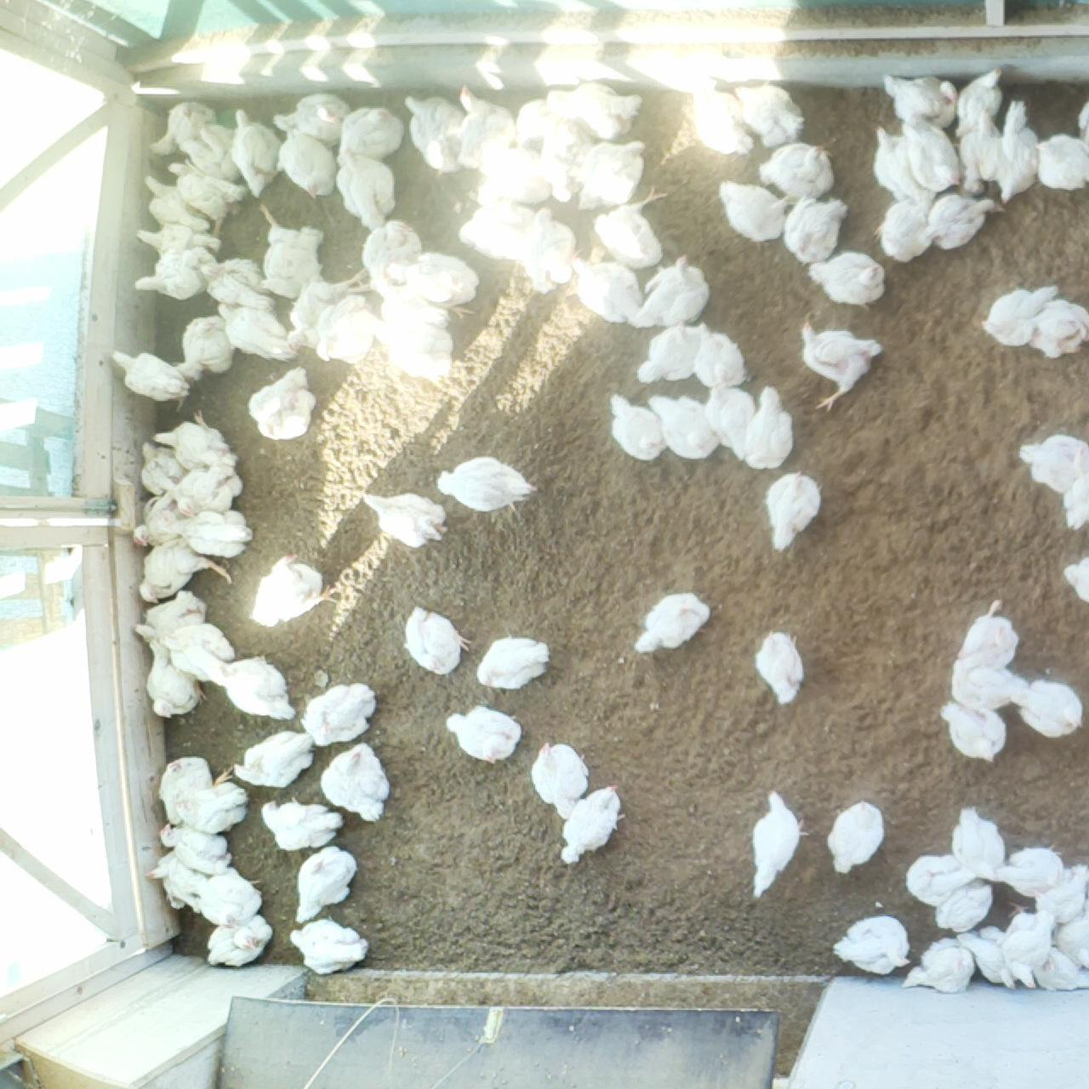chicken: (801, 317, 877, 413), (587, 184, 669, 271), (316, 746, 396, 821), (259, 205, 320, 302), (437, 455, 539, 513), (284, 277, 363, 351), (251, 556, 329, 630), (169, 159, 244, 234), (377, 304, 453, 378), (363, 487, 453, 549), (753, 787, 802, 900), (334, 150, 396, 238), (391, 250, 476, 313), (141, 545, 231, 603), (636, 590, 710, 659), (560, 784, 623, 864), (812, 250, 893, 312), (229, 109, 286, 197), (402, 93, 465, 172), (577, 257, 649, 326), (759, 140, 840, 200), (641, 395, 718, 458), (361, 224, 429, 295), (248, 367, 315, 439), (221, 295, 293, 362), (984, 282, 1057, 348), (640, 255, 706, 328), (718, 180, 794, 243), (113, 348, 191, 409), (149, 416, 235, 471), (445, 705, 522, 766), (634, 324, 711, 385), (955, 600, 1021, 670), (238, 727, 314, 787), (214, 660, 294, 717), (404, 606, 471, 674), (177, 769, 247, 834), (288, 921, 372, 975), (305, 681, 377, 744), (764, 472, 822, 550), (129, 252, 225, 299), (824, 799, 884, 874), (533, 738, 588, 819), (900, 120, 960, 194), (298, 847, 357, 922), (738, 84, 805, 150), (170, 510, 258, 560), (522, 210, 575, 293), (1013, 436, 1089, 493), (750, 632, 807, 707), (883, 77, 963, 130), (836, 917, 909, 975), (691, 86, 753, 153), (276, 92, 350, 148), (908, 934, 978, 993), (481, 147, 551, 206), (936, 705, 1011, 760), (1012, 679, 1087, 734), (150, 642, 202, 721), (932, 191, 1004, 248), (949, 664, 1031, 714), (871, 128, 927, 201), (278, 130, 339, 197), (460, 91, 513, 168), (569, 82, 641, 138), (961, 927, 1023, 992), (160, 629, 237, 681), (135, 590, 204, 648), (1005, 904, 1052, 989), (904, 852, 974, 909), (955, 806, 1008, 881), (477, 637, 550, 691), (322, 297, 376, 370), (588, 140, 644, 208), (461, 208, 532, 261), (611, 392, 664, 458), (751, 386, 793, 469), (957, 116, 1002, 193), (1031, 128, 1089, 187), (954, 68, 1011, 128), (147, 854, 210, 908), (338, 106, 402, 159), (163, 758, 214, 824), (711, 385, 756, 459), (201, 923, 280, 965), (691, 329, 747, 388), (205, 258, 275, 305), (202, 874, 272, 921), (139, 221, 220, 261), (161, 823, 231, 869), (1006, 846, 1070, 896), (1034, 939, 1089, 997), (144, 175, 203, 229), (184, 316, 238, 374), (881, 197, 930, 260), (1035, 301, 1089, 355), (938, 878, 994, 928), (158, 109, 216, 156), (1040, 864, 1086, 922), (175, 474, 235, 518), (139, 494, 184, 552), (193, 127, 242, 180), (143, 439, 188, 493), (1059, 904, 1089, 969), (1056, 476, 1089, 532), (544, 93, 582, 140), (520, 97, 550, 145), (1061, 557, 1089, 598), (1079, 105, 1089, 144)
